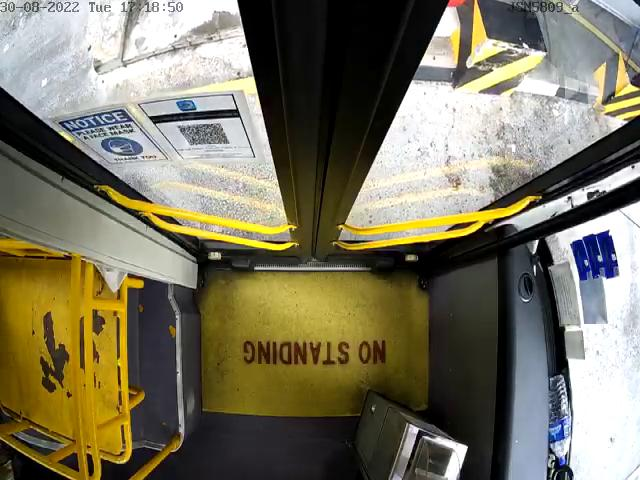close: (0, 0, 640, 123)
